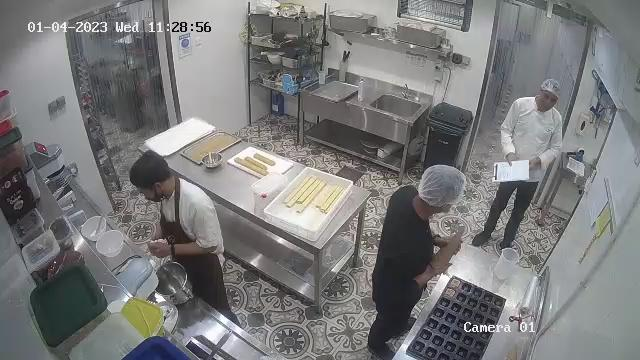apron: (159, 174, 230, 321)
no_apron: (509, 98, 560, 178)
